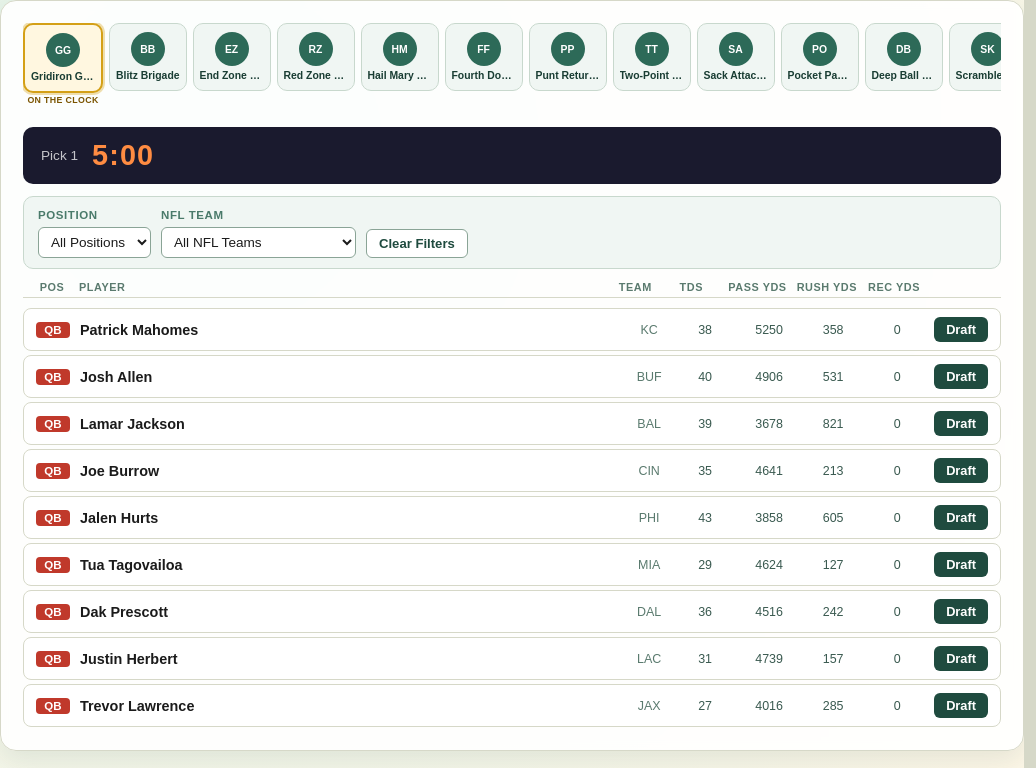
Test case: DraftRoomPage › clicking a team slot opens the roster panel
Click the button "GG Gridiron Ghosts": (63, 58) [23,23,103,94]
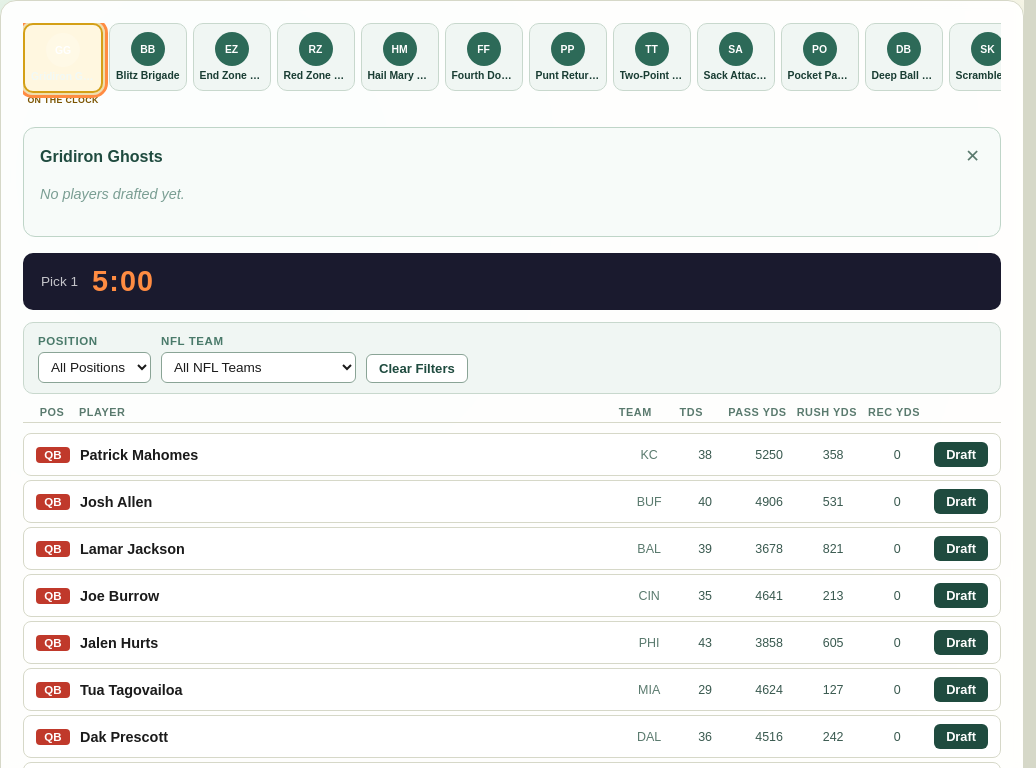
Result: the text "No players drafted yet." is shown at [40,186,185,202]
